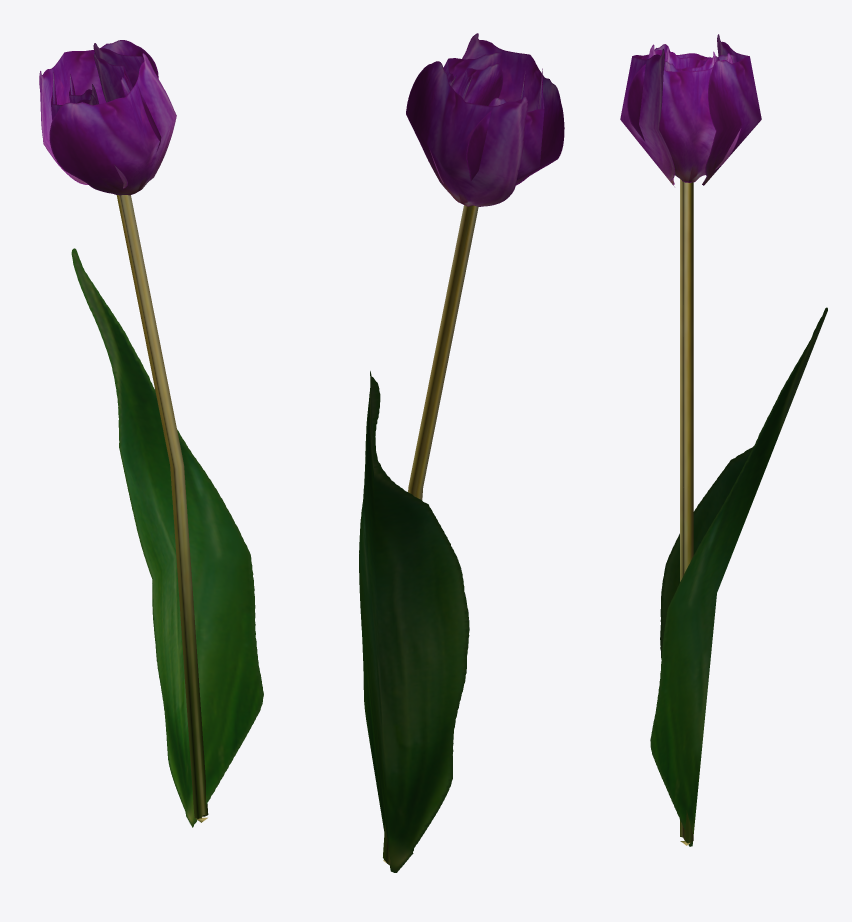
Rendered from Product_tulip_purple.FBX.
3 renders of one model, left to right at view 1: azimuth 30°, elevation 25°; view 2: azimuth 150°, elevation 25°; view 3: azimuth 270°, elevation 25°, orthographic. The views are drawn at different scales.
Parts seen in each view (by area): view 1: product_tulip_purple_LOD00; view 2: product_tulip_purple_LOD00; view 3: product_tulip_purple_LOD00.
Boxes of the visible parts, x1,y1,x2,y2 form: product_tulip_purple_LOD00: (39,40,263,827); product_tulip_purple_LOD00: (359,33,564,872); product_tulip_purple_LOD00: (620,34,827,846).
Size of what is drawn, in the model's own units: 0.1568 by 0.5159 by 0.1316.
